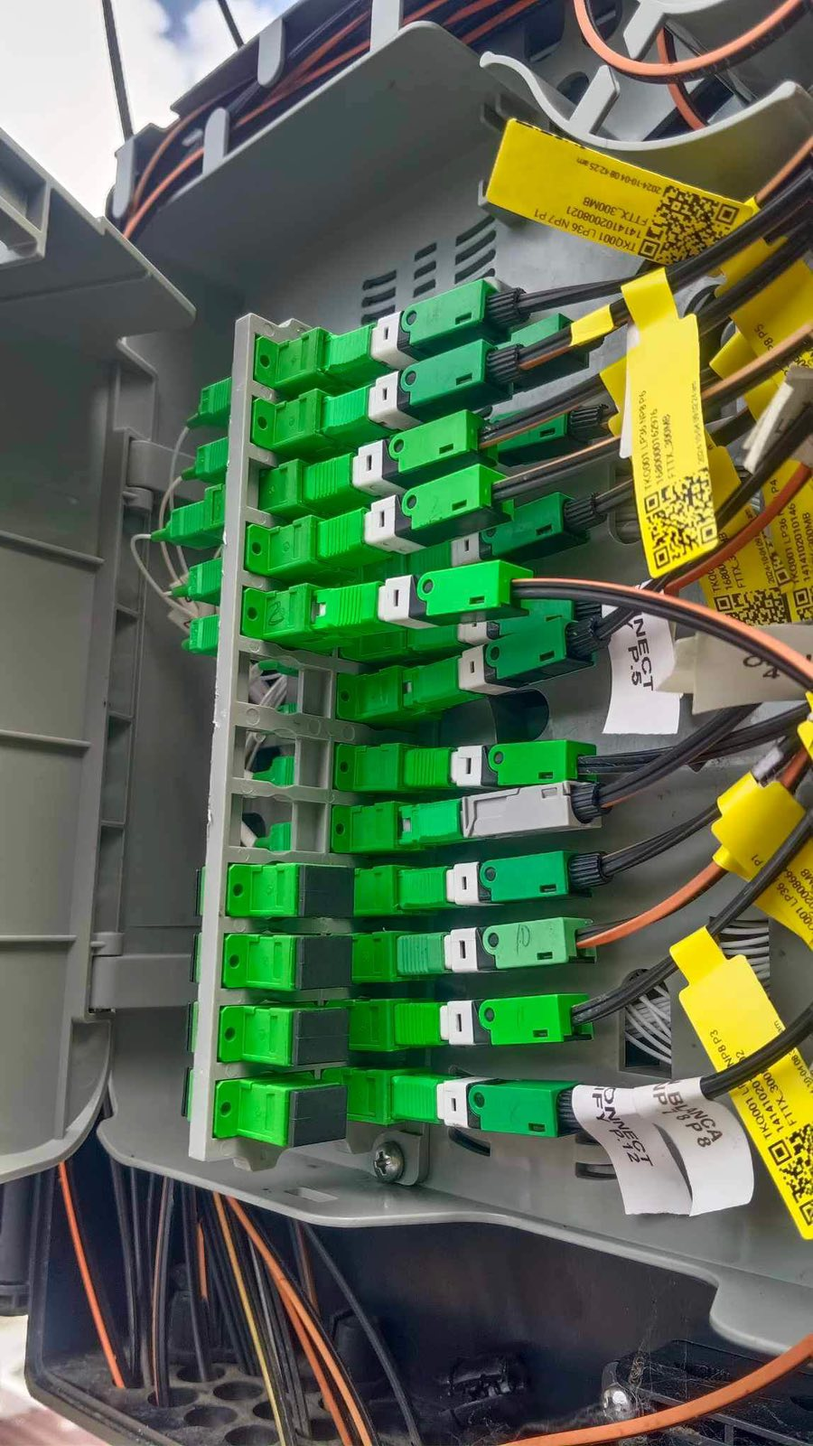no port: (233, 652, 331, 719), (232, 726, 327, 788), (229, 795, 325, 853)
occupied: (313, 257, 552, 373), (369, 304, 604, 414), (314, 445, 540, 559), (313, 323, 535, 437), (300, 394, 524, 503), (396, 610, 613, 716), (301, 553, 561, 635), (399, 488, 608, 586), (387, 396, 610, 479), (398, 778, 622, 850), (388, 1072, 610, 1141), (401, 584, 615, 655), (398, 845, 621, 913), (398, 911, 613, 973), (391, 989, 613, 1047), (403, 731, 615, 789)
vacant: (288, 1086, 348, 1150), (295, 1007, 352, 1066), (298, 934, 354, 991), (298, 863, 356, 918)
